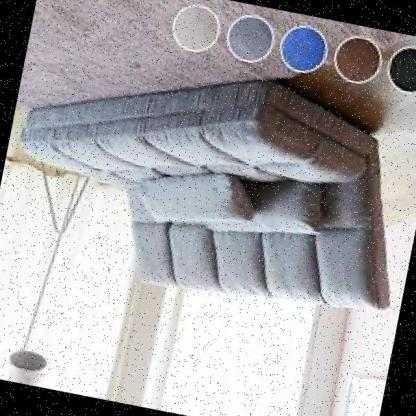Sofa: (0, 31, 416, 346)
